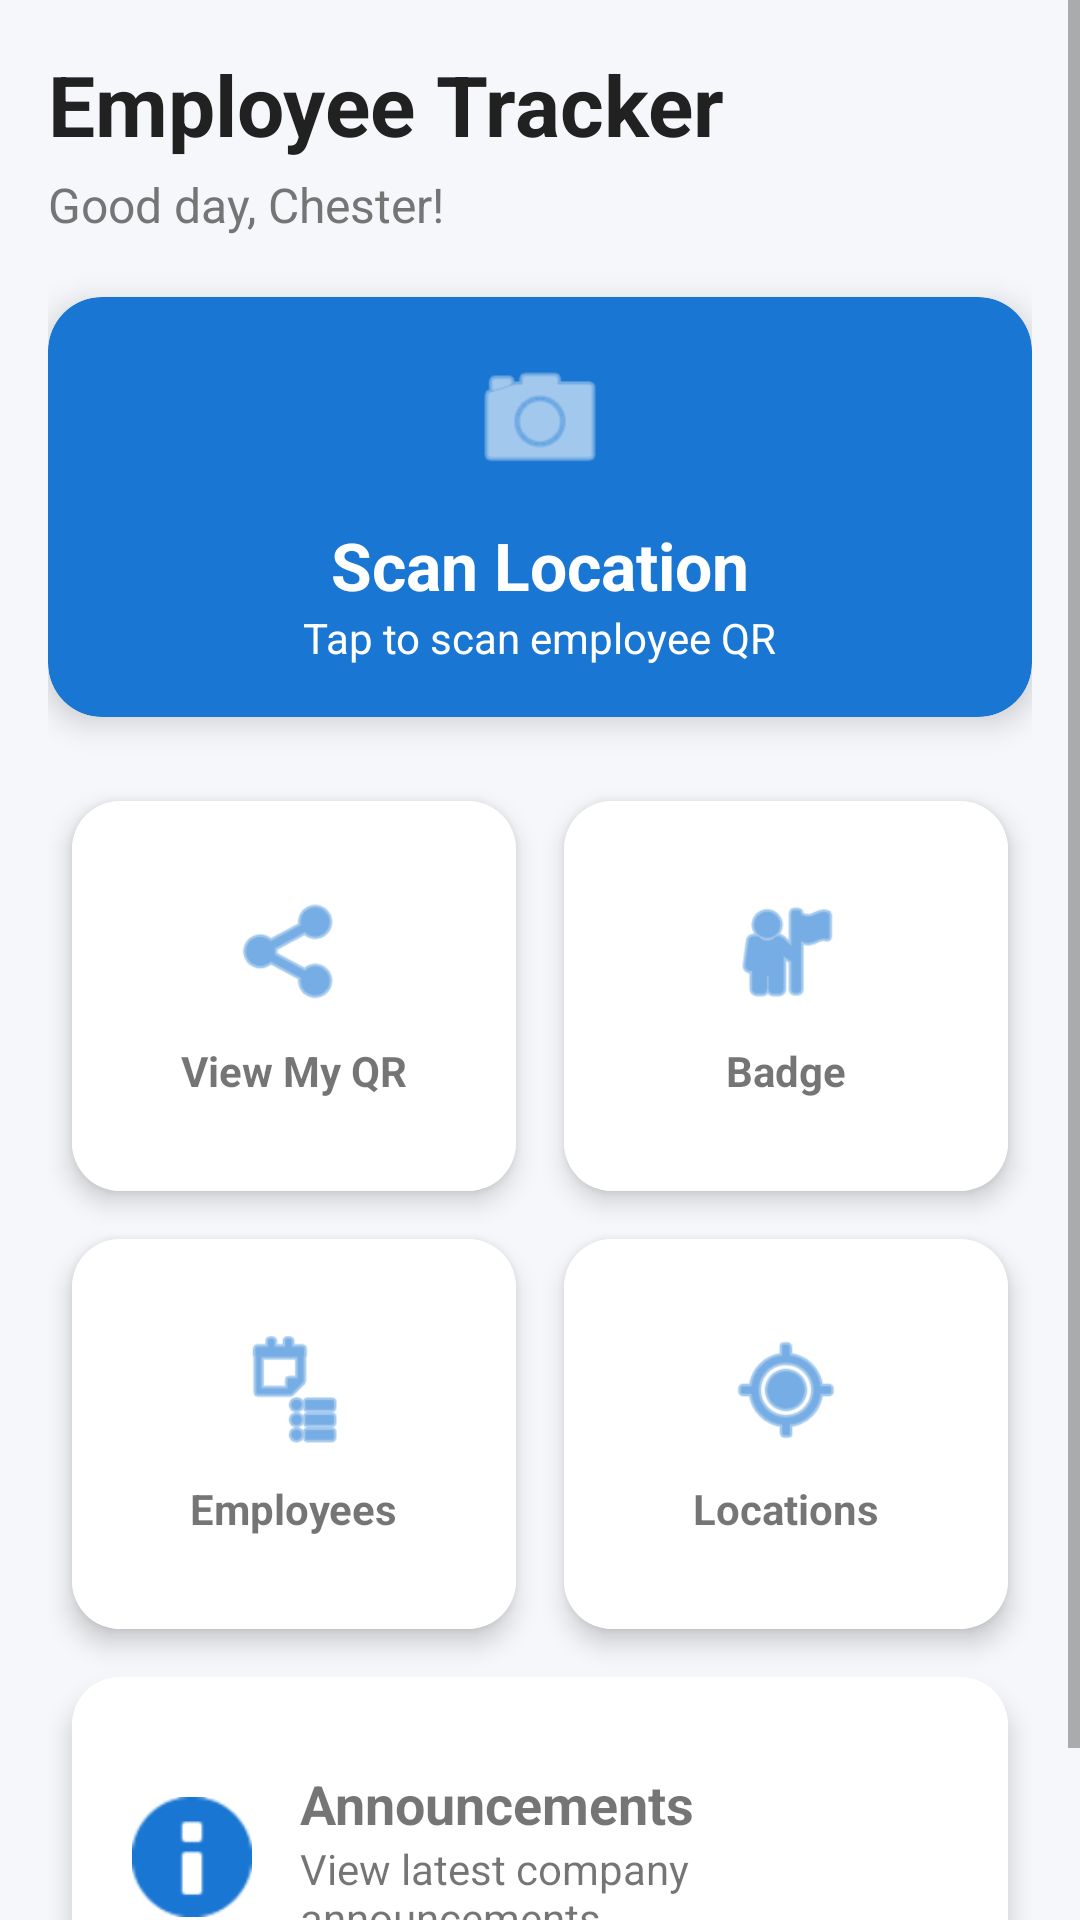

Screen size 1080w x 1920h. Icon name, then its center in pixels as [x,y]:
agenda: [294,1389]
camera: [540,416]
info: [192,1857]
mylocation: [786,1390]
myplaces: [787,952]
share: [288,951]
